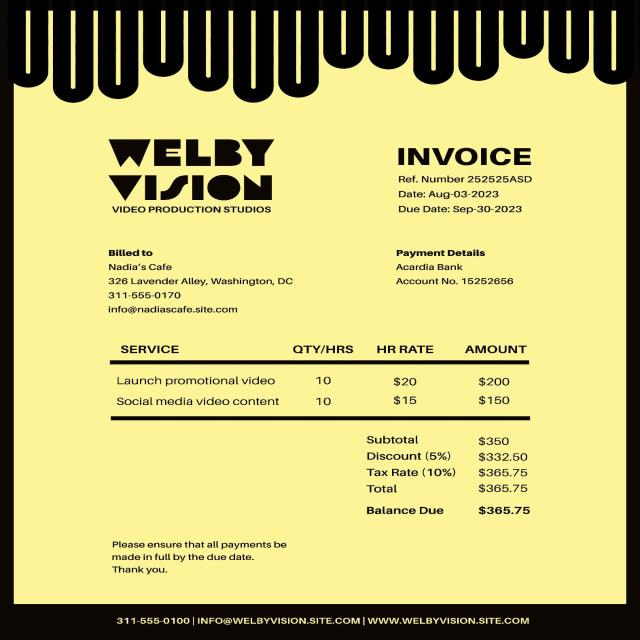paragraph: (359, 431, 542, 522), (97, 136, 284, 220), (102, 244, 298, 319), (110, 529, 296, 580), (393, 172, 544, 225), (394, 244, 520, 292), (377, 140, 569, 170)
table: (100, 330, 544, 424)
